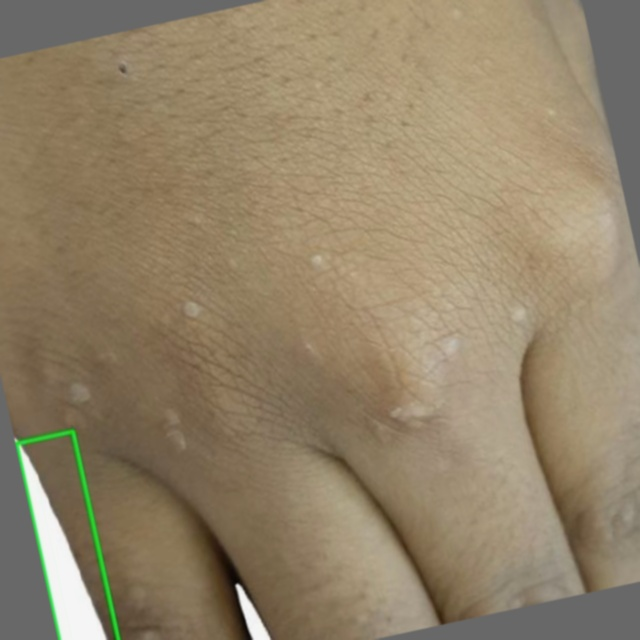Atopic Dermatitis: (16, 432, 119, 639)
